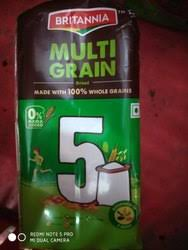bread: (13, 9, 133, 250)
